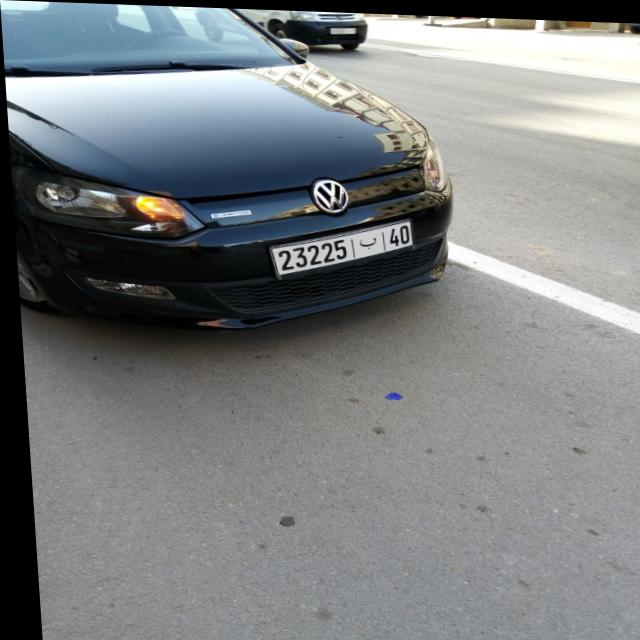License-Plate: (268, 218, 410, 275)
